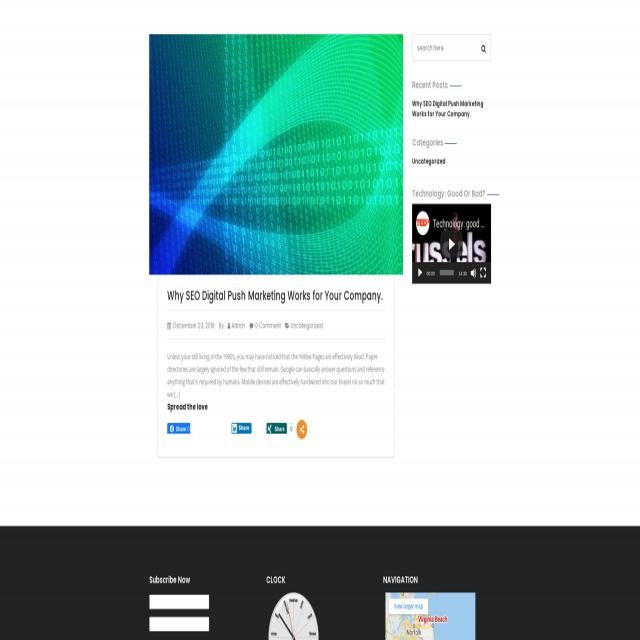button: (149, 34, 403, 276), (412, 203, 491, 283), (389, 599, 428, 614), (442, 234, 463, 259), (266, 423, 287, 434), (232, 422, 252, 433), (168, 423, 190, 433), (296, 420, 307, 440), (480, 44, 488, 56), (417, 267, 423, 278), (480, 267, 486, 278), (471, 267, 476, 278)
field: (412, 36, 490, 61), (149, 616, 209, 632), (149, 594, 209, 609)
